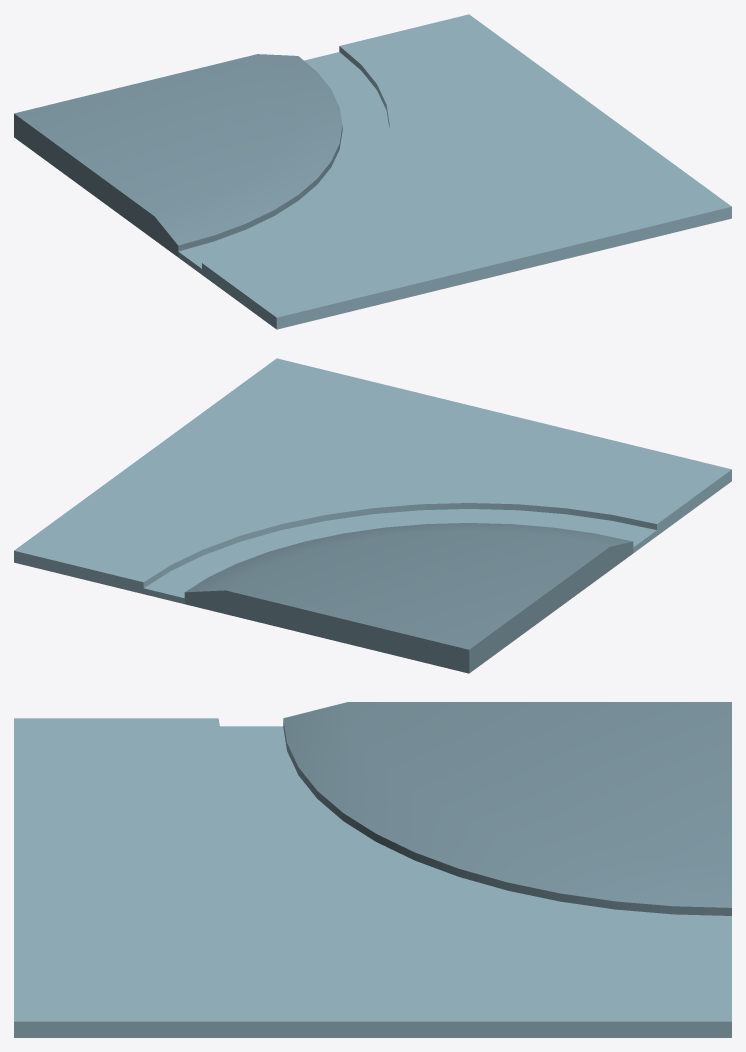
Rendered from roadCorner.dae.
The picture shows the model from 3 angles, top to bottom: view 1: azimuth 30°, elevation 25°; view 2: azimuth 150°, elevation 25°; view 3: azimuth 270°, elevation 25°; orthographic projection. The views are drawn at different scales.
Visible parts, largest first — view 1: roadCorner; view 2: roadCorner; view 3: roadCorner.
Boxes of the visible parts, left/top/right/bottom form: roadCorner: left=14, top=14, right=731, bottom=329; roadCorner: left=14, top=358, right=731, bottom=673; roadCorner: left=14, top=702, right=731, bottom=1037.
Size of the model in its own units: 1 by 0.05 by 1.
